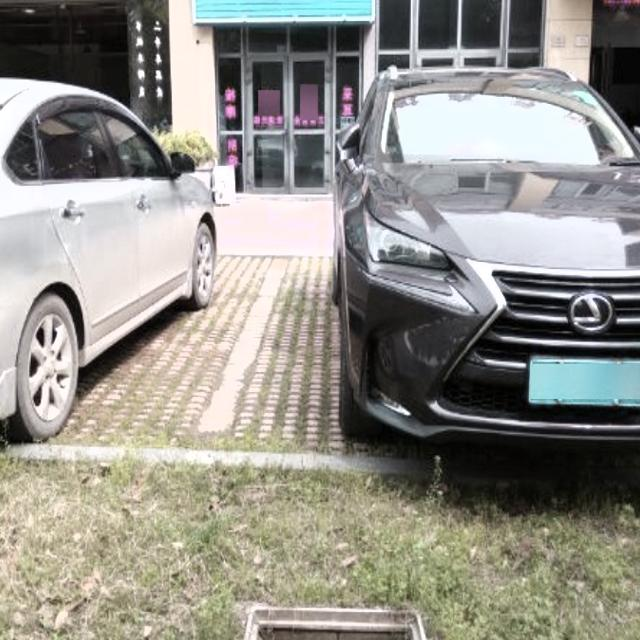lose: (235, 592, 434, 640)
